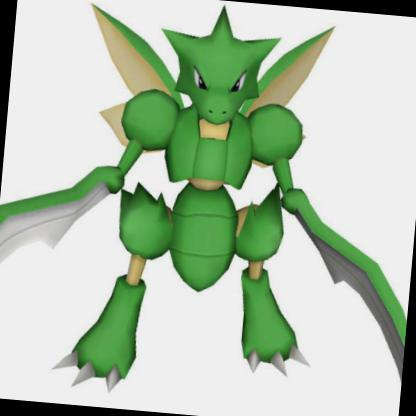Sichlor: (0, 0, 415, 415), (0, 0, 347, 415)
